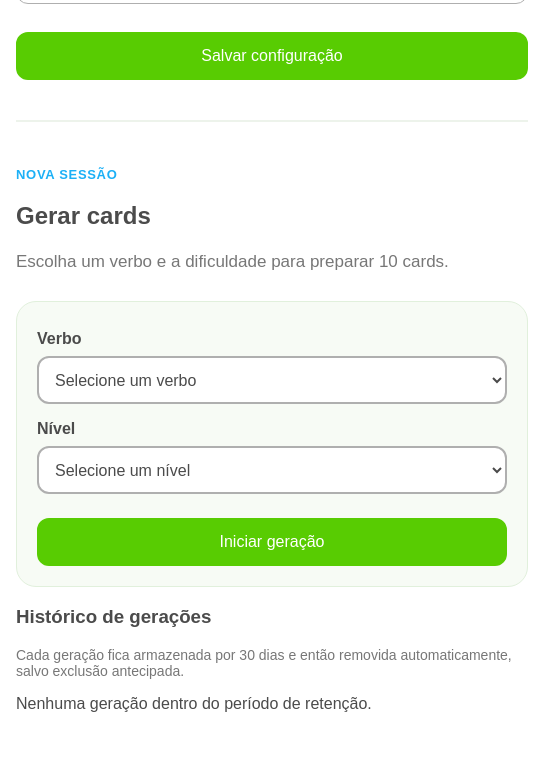
Test: configuração de provedores › permite aprovar um card individual sem afetar os demais
The width and height of the screenshot is (545, 762).
(page scrolled)
Select "make" in the dropdown labelled "Verbo" at (272, 380), box top-left (37, 356), bottom-right (507, 404)
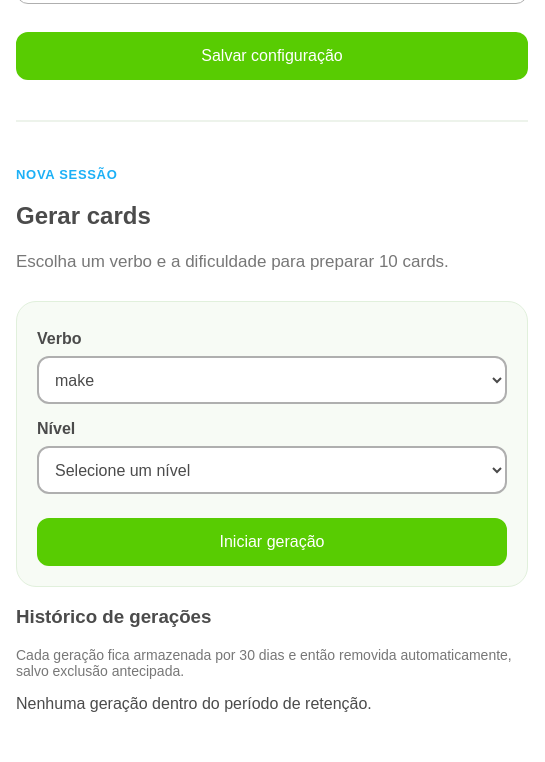
Select "Iniciante" in the dropdown labelled "Nível" at (272, 470), box top-left (37, 446), bottom-right (507, 494)
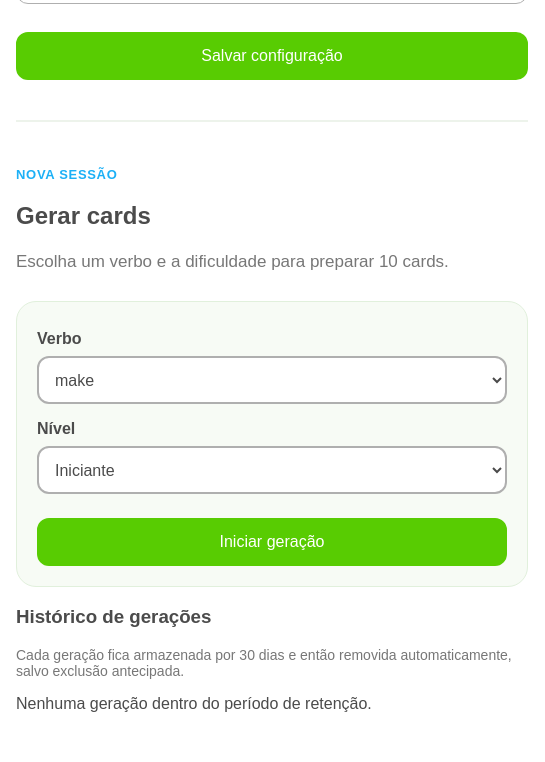
Click the button "Iniciar geração".
click(272, 542)  # box top-left (37, 518), bottom-right (507, 566)
(page scrolled)
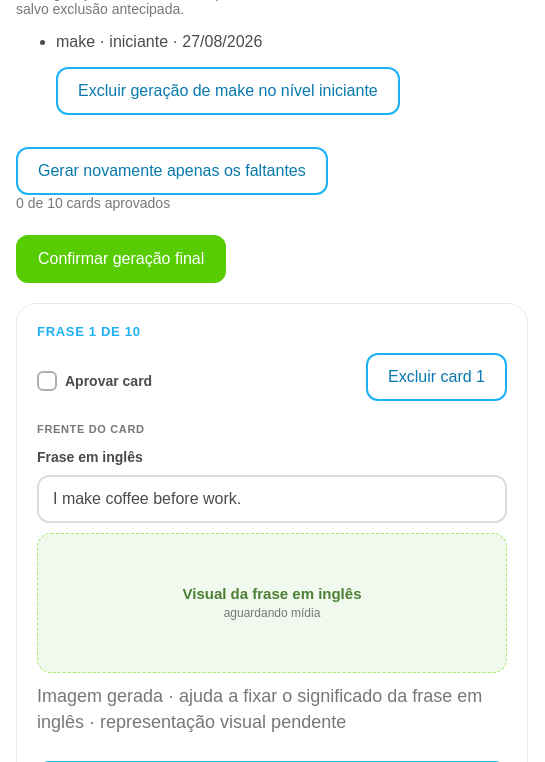
Click the checkbox named "Aprovar card 1".
click(47, 381)  # box top-left (37, 371), bottom-right (57, 391)
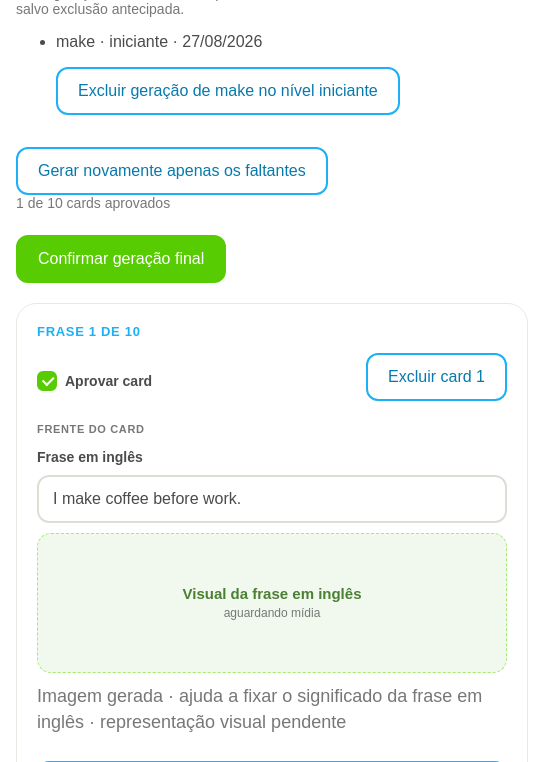
Expected: the checkbox named "Aprovar card 1" is checked, top-left (37, 371), bottom-right (57, 391)
Expected: the text "1 de 10 cards aprovados" is shown, top-left (16, 195), bottom-right (170, 211)
